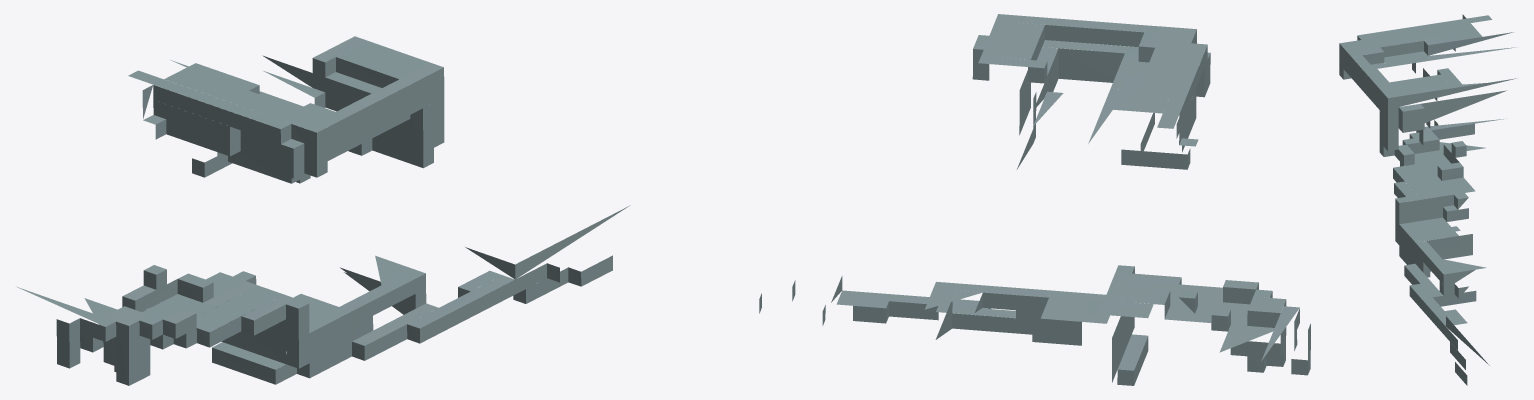
3 renders of one model, left to right at view 1: azimuth 30°, elevation 25°; view 2: azimuth 150°, elevation 25°; view 3: azimuth 270°, elevation 25°, orthographic. The views are drawn at different scales.
Visible parts, largest first — view 1: measured-industrial; view 2: measured-industrial; view 3: measured-industrial.
Boxes of the visible parts, x1,y1,x2,y2 form: measured-industrial: (16,36,630,385); measured-industrial: (759,14,1310,385); measured-industrial: (1339,14,1516,385).
Bounding box in the file's own units: 63.44 × 29.94 × 23.19.
